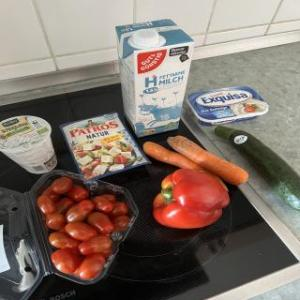bell_pepper: (150, 170, 236, 232)
carrot: (140, 137, 236, 194), (165, 129, 251, 191)
tomato: (66, 250, 112, 280), (77, 231, 121, 258), (45, 244, 81, 276), (64, 196, 96, 228), (61, 218, 101, 242), (46, 173, 76, 195), (34, 190, 56, 215)
zucchini: (212, 121, 300, 211)
